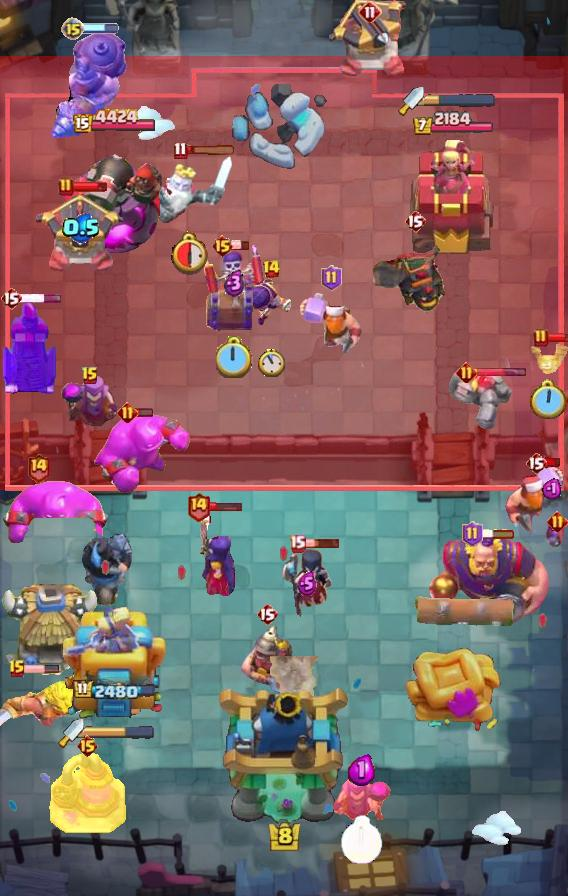archer-evolution: (372, 230, 458, 316)
axe: (193, 510, 239, 598)
bandit: (239, 623, 295, 693)
bar: (60, 607, 168, 731), (409, 138, 497, 256)
barbarian-barrel: (542, 521, 568, 549)
clone: (93, 410, 191, 496), (0, 481, 112, 547)
electro-spirit: (62, 213, 101, 243), (349, 754, 375, 786), (224, 269, 245, 297), (297, 572, 317, 597), (542, 477, 562, 499)
elixir: (341, 815, 383, 865), (171, 230, 212, 274), (530, 379, 568, 422), (216, 336, 253, 378), (258, 348, 285, 377)
emote: (9, 292, 62, 303), (185, 145, 237, 156), (475, 367, 527, 378), (303, 537, 340, 549), (83, 22, 119, 34), (72, 181, 108, 193), (480, 528, 516, 540), (208, 500, 243, 512), (24, 664, 60, 674), (548, 332, 568, 343), (134, 406, 154, 417), (545, 456, 563, 468), (230, 241, 249, 252)
fisherman: (270, 656, 323, 722)
goblin-ball: (247, 274, 295, 328)
goblin-hut: (0, 672, 84, 728)
ice-spirit-evolution: (526, 341, 568, 375)
ice-spirit-evolution-symbol: (0, 302, 60, 398)
inferno-dragon: (79, 529, 135, 609)
king-tower: (216, 684, 352, 826)
king-tower-bar: (424, 93, 496, 107), (84, 726, 154, 740)
lava-pup: (35, 192, 127, 274), (329, 0, 411, 80)
lightning: (423, 534, 553, 626)
mighty-miner: (504, 463, 568, 533), (299, 291, 363, 355)
minion: (412, 596, 516, 630)
mortar-evolution: (147, 155, 235, 235)
pekka: (48, 753, 126, 835)
prince: (0, 584, 102, 680)
rascal-boy: (279, 545, 335, 623)
rascal-girl: (60, 374, 120, 430), (330, 773, 392, 827)
selected: (71, 108, 156, 136), (413, 111, 496, 137), (71, 678, 156, 701)
skeleton-king-bar: (203, 242, 265, 334)
text: (25, 452, 50, 483), (186, 490, 211, 521), (358, 0, 382, 24), (61, 17, 85, 41), (321, 265, 343, 291), (210, 234, 233, 258), (77, 734, 100, 758), (462, 521, 483, 547), (404, 209, 426, 233), (0, 286, 22, 310), (525, 451, 547, 475), (256, 602, 278, 626), (456, 362, 477, 383), (117, 401, 138, 422), (548, 511, 568, 532), (262, 259, 281, 279), (81, 366, 99, 386), (8, 659, 26, 679), (289, 535, 307, 553), (58, 177, 74, 197), (533, 328, 549, 348), (172, 141, 187, 160)
tower-bar: (64, 138, 164, 256)
valkyrie-evolution: (448, 371, 512, 431)
wizard: (48, 27, 130, 141)
